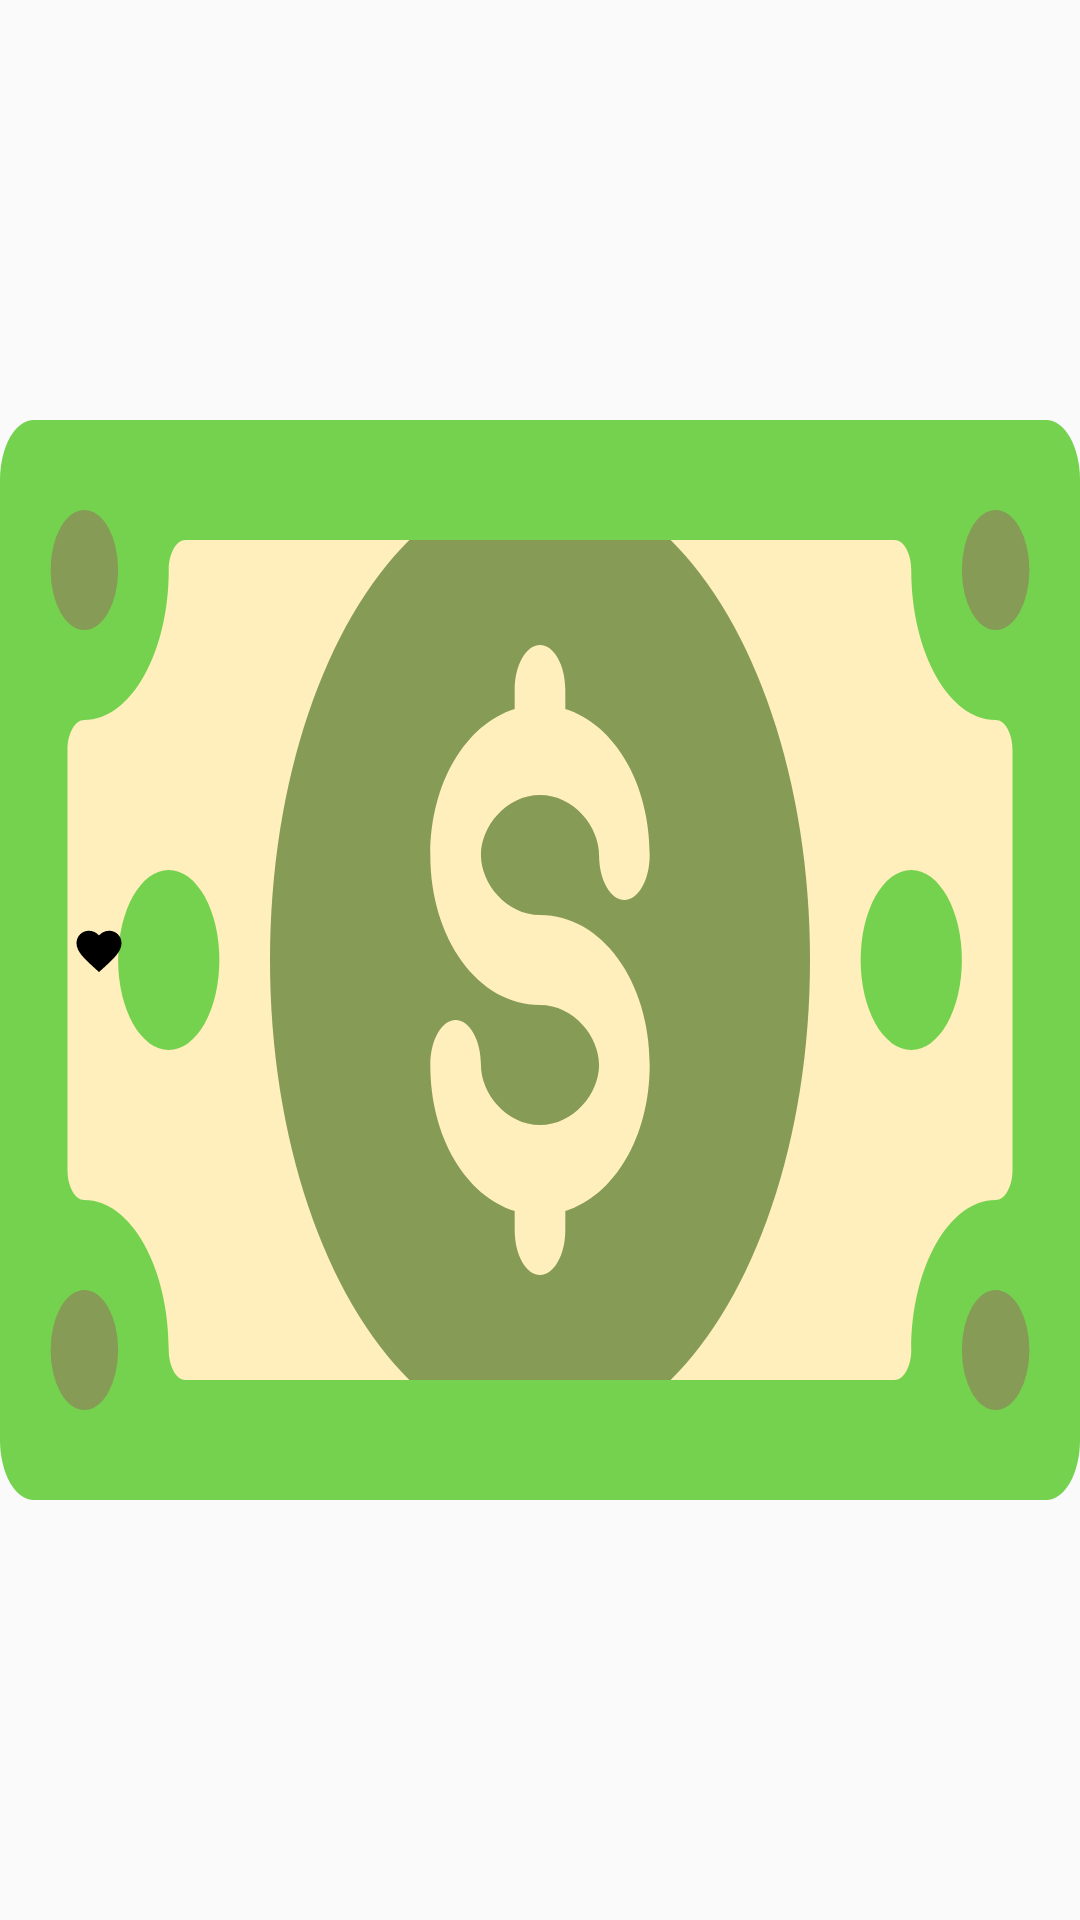

Icon click points for this 1080px x 1920px phone screenshot, format (x,y):
favorite: (108,960)
